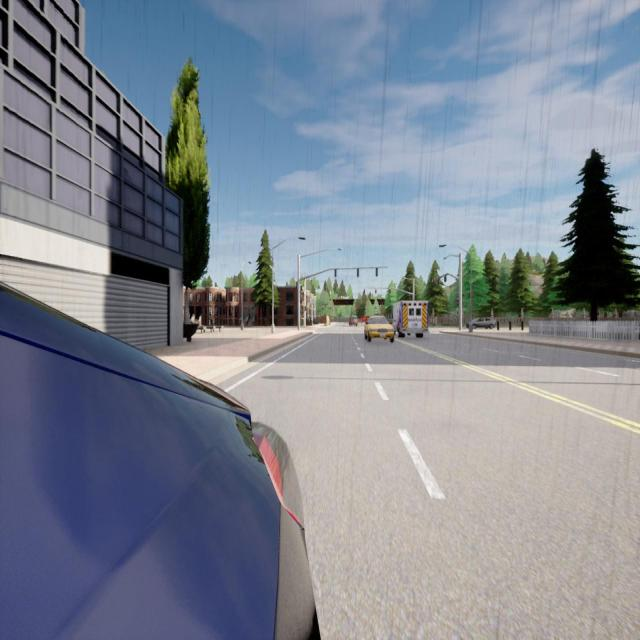Vehicle: (0, 279, 318, 640), (392, 300, 428, 338), (364, 315, 395, 343), (466, 316, 496, 328), (348, 314, 358, 326), (361, 314, 367, 323)
traffic_light: (375, 268, 378, 276), (357, 268, 359, 277), (334, 269, 336, 277), (457, 298, 459, 306), (444, 274, 446, 282), (438, 277, 440, 284), (432, 280, 434, 286), (375, 288, 377, 293), (389, 289, 391, 293), (364, 288, 365, 292)
